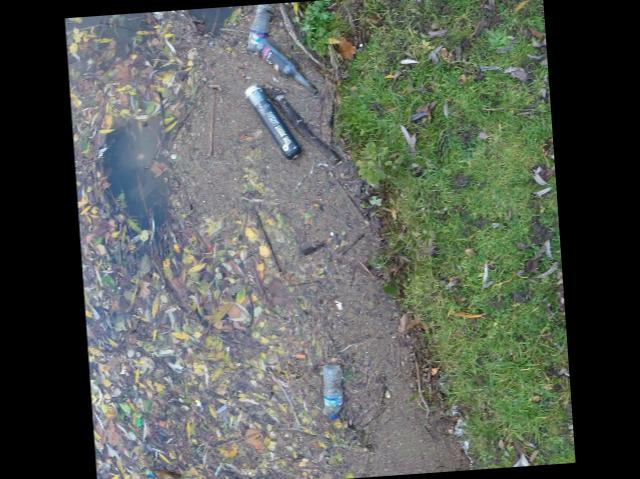plastic: (244, 82, 301, 157), (322, 362, 342, 416)
